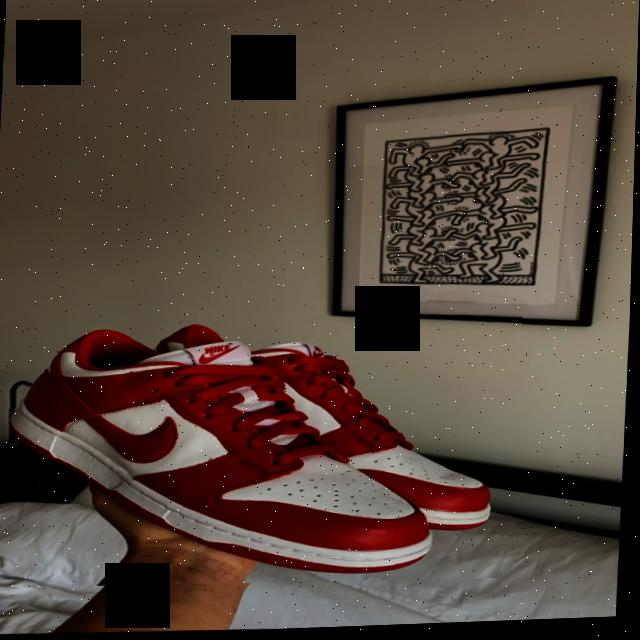shoe: (0, 309, 524, 597)
